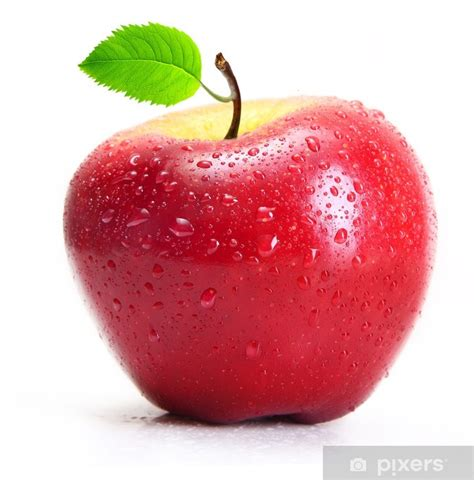apple: (60, 57, 447, 431)
